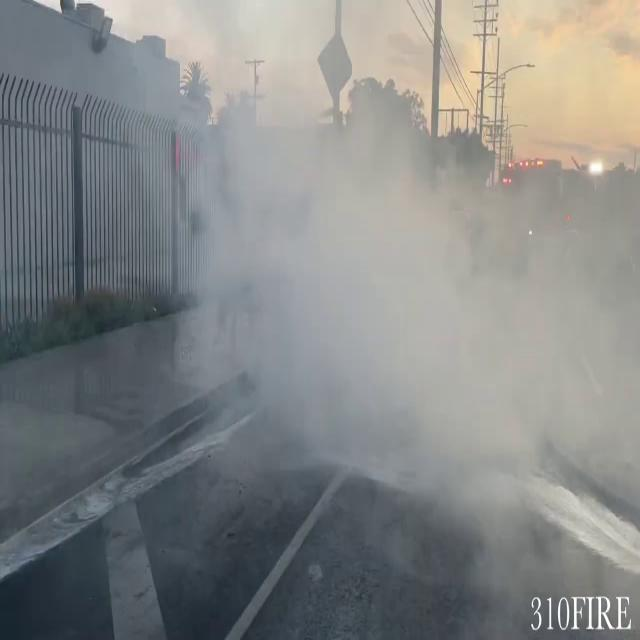Smoke: (160, 12, 640, 586)
